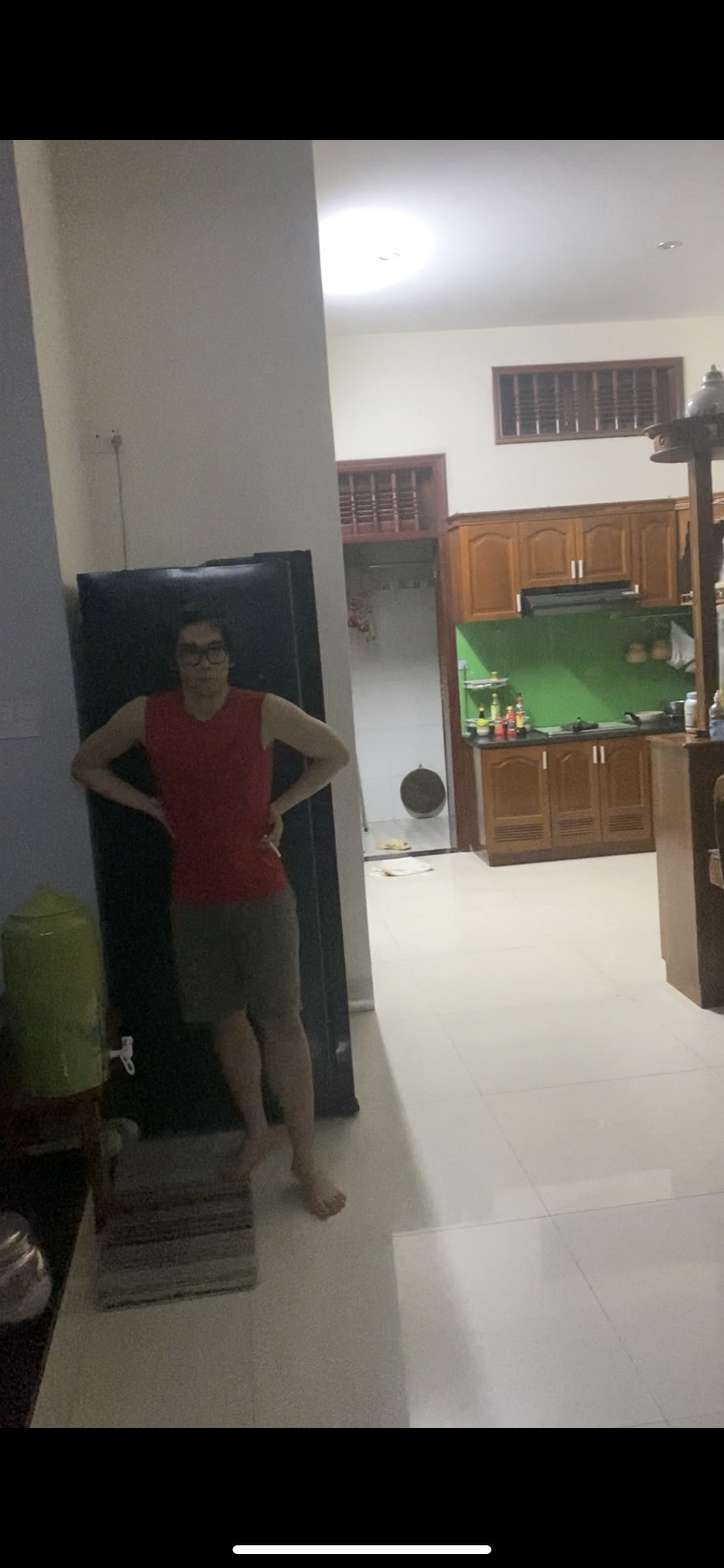cigarette: (267, 838, 284, 861)
person: (114, 594, 358, 1236)
